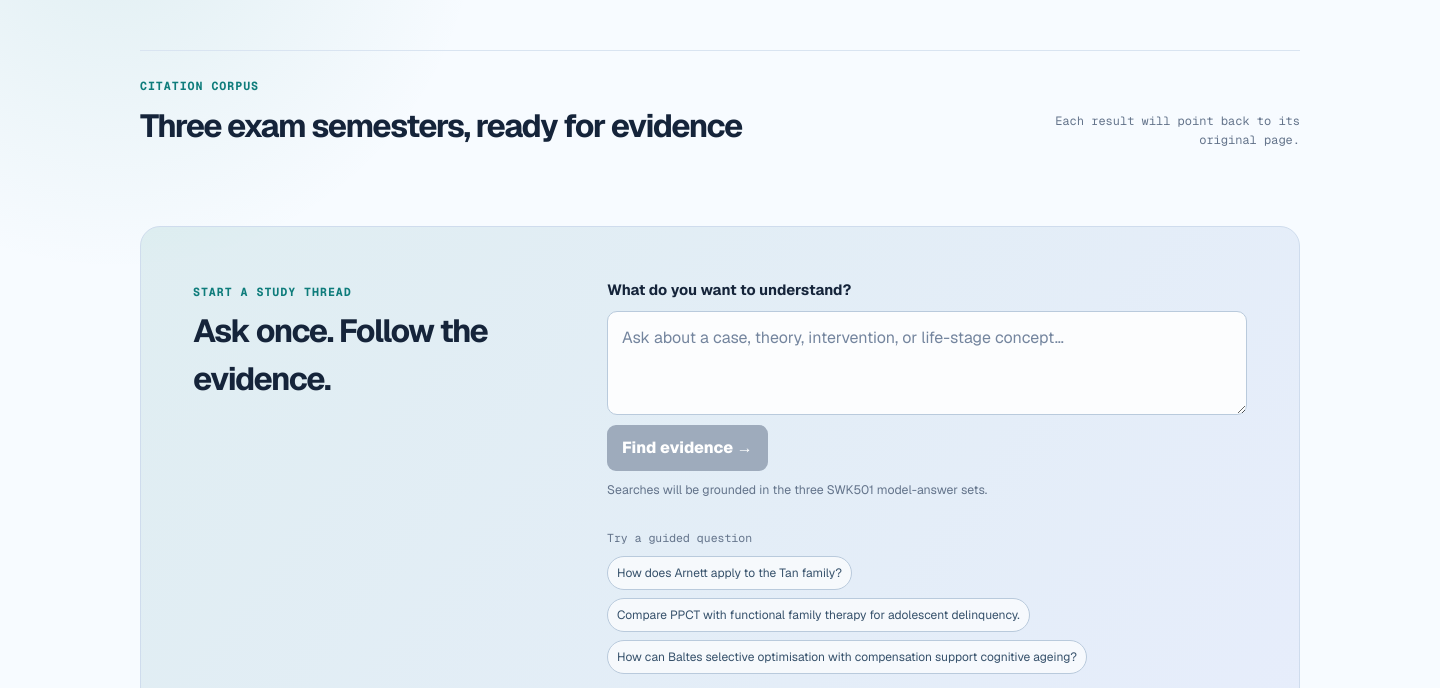
Test: retains sources and partial answer after a provider error, then retries the same query
(page scrolled)
Type "Explain Arnett" into the text box at (927, 363), box [607,311,1247,415]
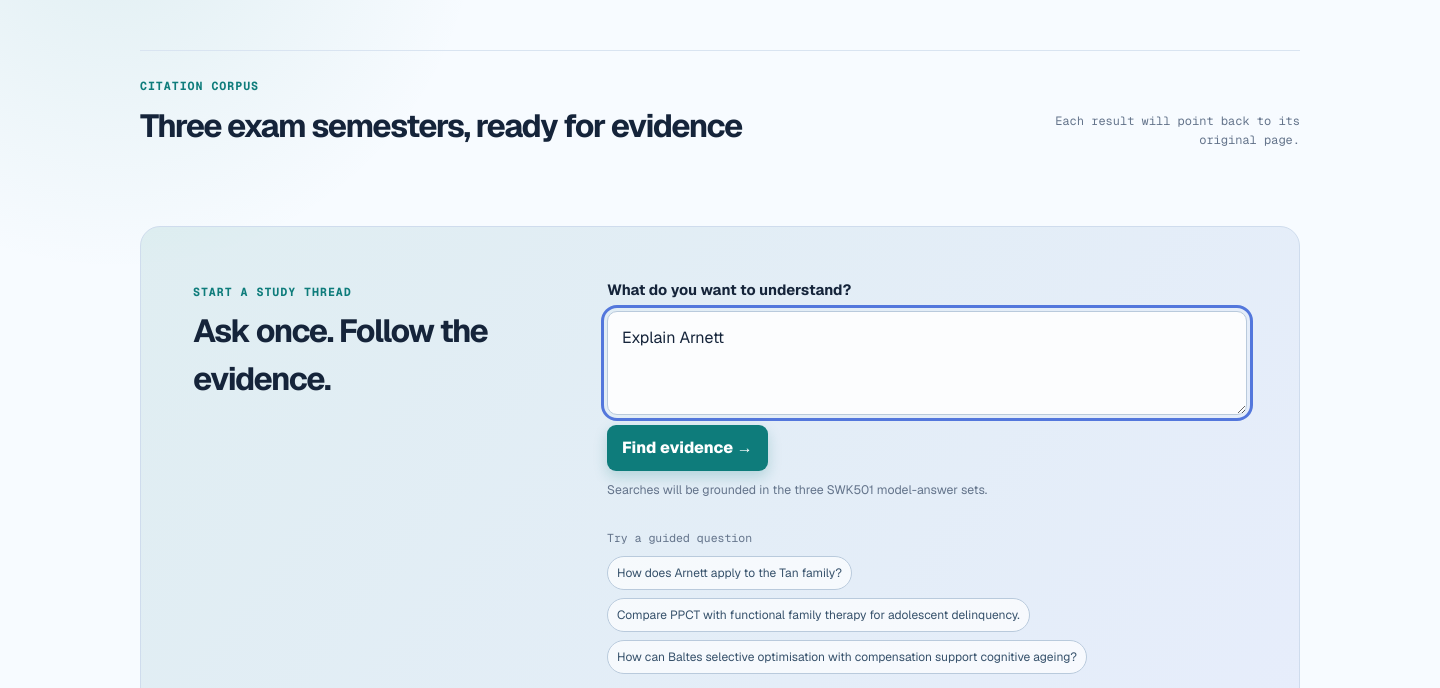
Click the button "Find evidence →" at (687, 448), box [607,425,768,471]
(page scrolled)
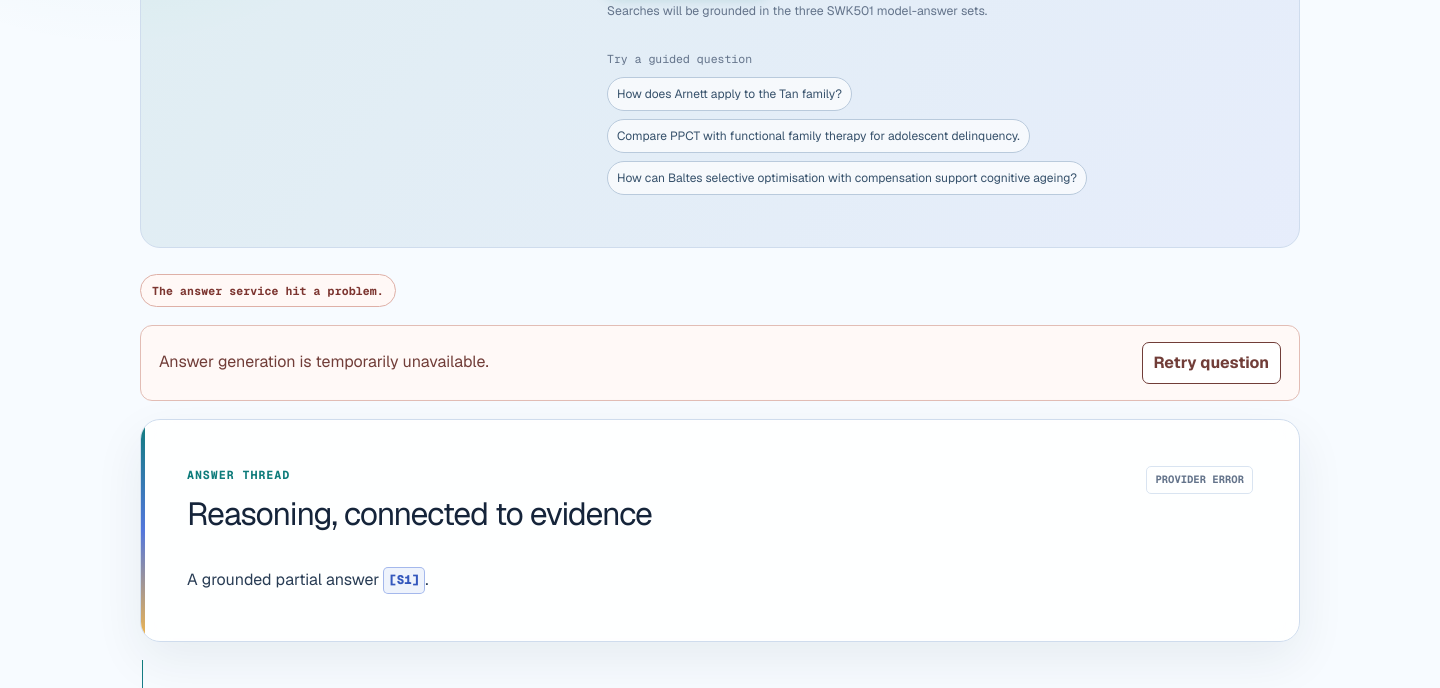
Now the text "Answer generation is temporarily unavailable." is shown, box [159,350,489,375]
Now the text "A grounded partial answer [S1] ." is shown, box [187,567,428,594]
Click the button "Retry question" at (1211, 363), box [1142,342,1281,384]
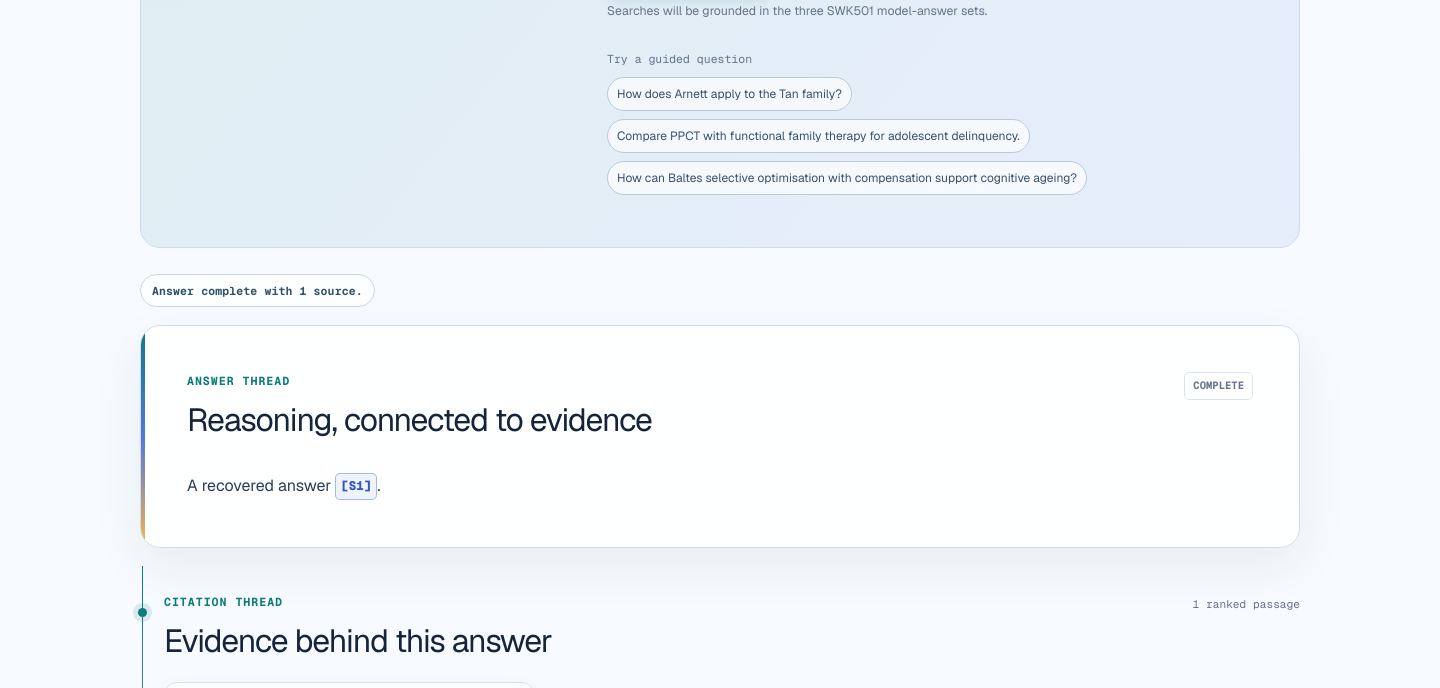
Now the text "A recovered answer [S1] ." is shown, box [187,473,380,500]
